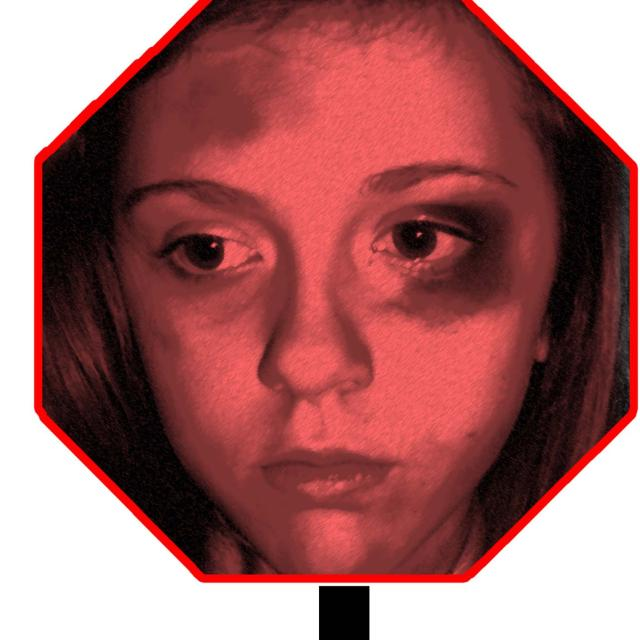Depress: (113, 25, 566, 577)
